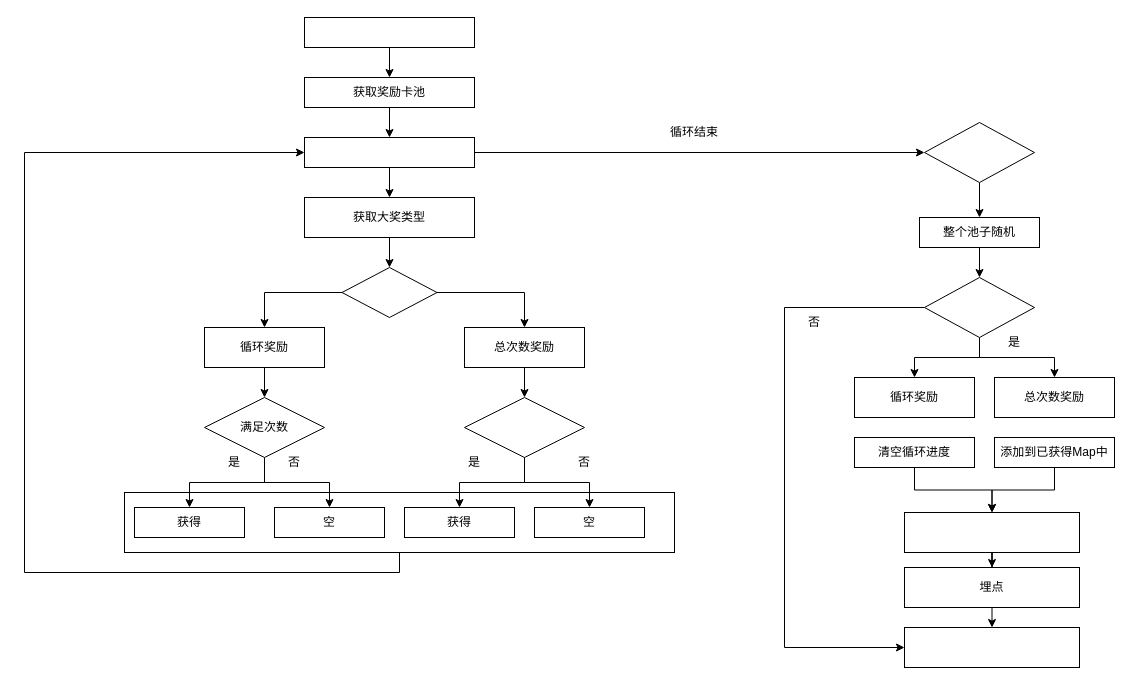
The diagram is 1132 pixels wide and 685 high, and some of its shapes have lost their labels. Each missing label, with the centre of its shape:
增加领取次数: pixel 992 532
循环大奖配置字段: pixel 389 152
抽取: pixel 389 32
是否是特殊type: pixel 979 307
满足次数且未获得: pixel 524 427
结束: pixel 992 647
获取规则: pixel 389 292
获得队列是否为空: pixel 979 152
